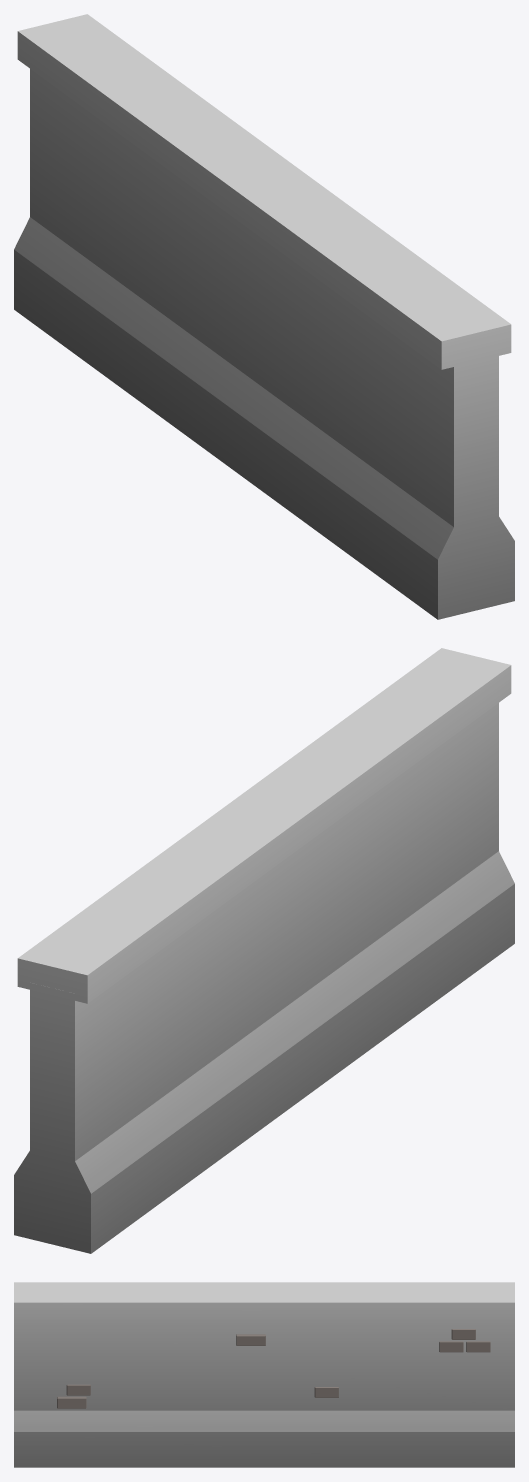
The model's file is [OBJ]Muro.fbx.
The picture shows the model from 3 angles, top to bottom: view 1: azimuth 30°, elevation 25°; view 2: azimuth 150°, elevation 25°; view 3: azimuth 270°, elevation 25°; orthographic projection. The views are drawn at different scales.
Visible parts, largest first — view 1: [OBJ]Muro; view 2: [OBJ]Muro; view 3: [OBJ]Muro.
Boxes of the visible parts, bbox=[...] form: [OBJ]Muro: bbox=[14, 14, 514, 619]; [OBJ]Muro: bbox=[14, 648, 514, 1253]; [OBJ]Muro: bbox=[14, 1282, 514, 1467].
Size of the model in its own units: 42.01 by 145 by 400.
